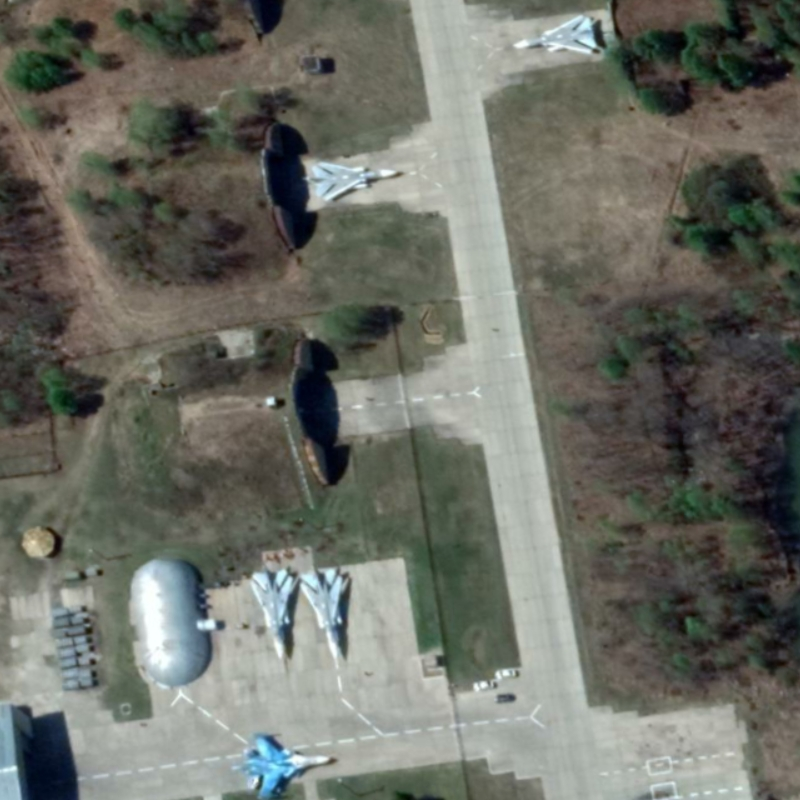A19: (229, 730, 332, 800)
A20: (297, 567, 346, 662), (247, 567, 295, 661), (309, 160, 399, 204), (511, 12, 599, 57)
